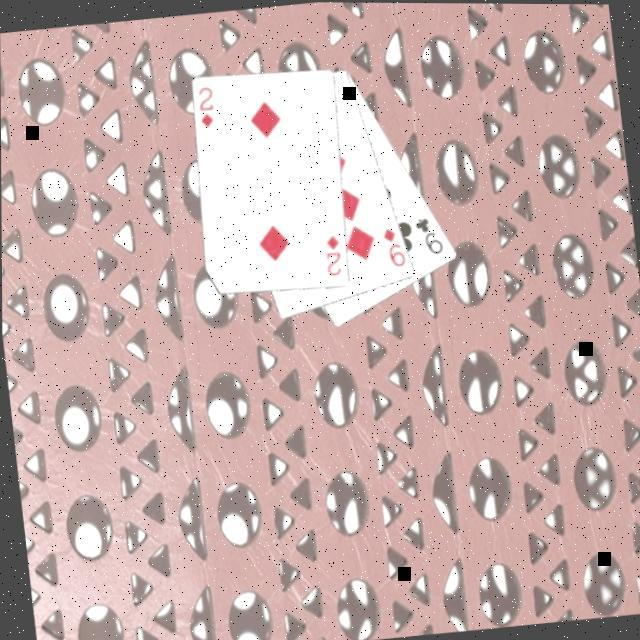2D: (319, 232, 345, 280), (192, 83, 218, 131)
9C: (410, 212, 446, 260)
9D: (377, 223, 408, 271)
